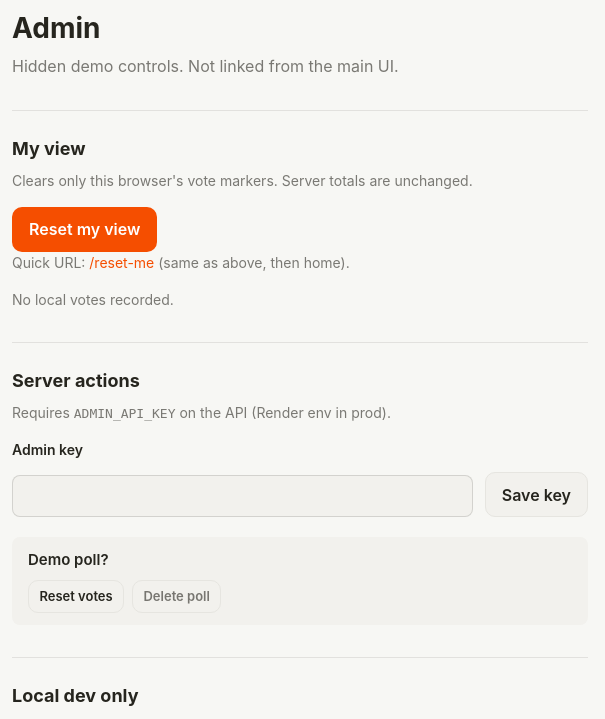
Test case: Admin › blocks server actions when admin key is not saved
Expected: the text "Demo poll?" is shown, [28,550,109,570]
Click the button "Reset votes" at x=76, y=596, box [28,580,124,613]
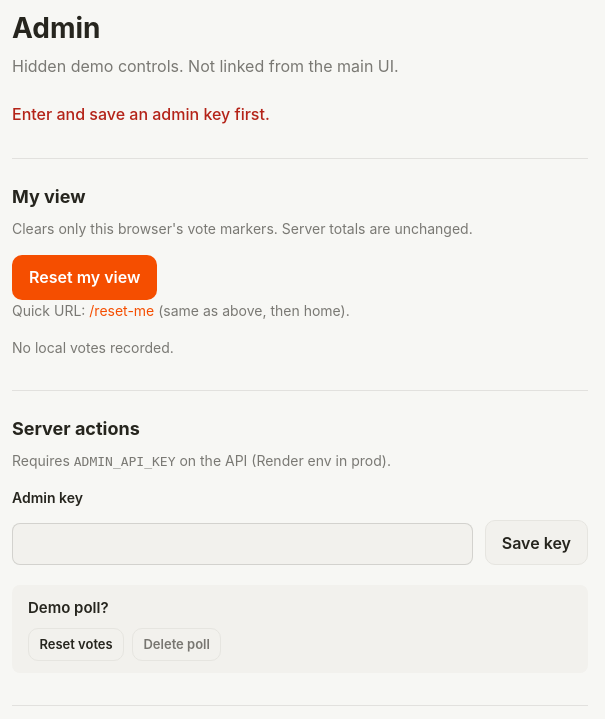
Expected: the message reads "Enter and save an admin key first.", [12,104,270,124]
